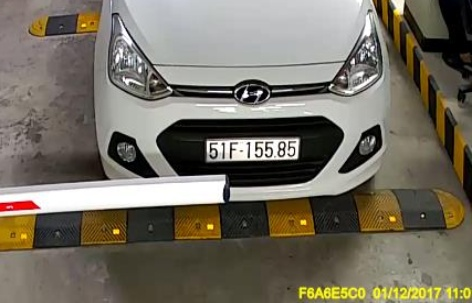plate: (200, 131, 305, 166)
